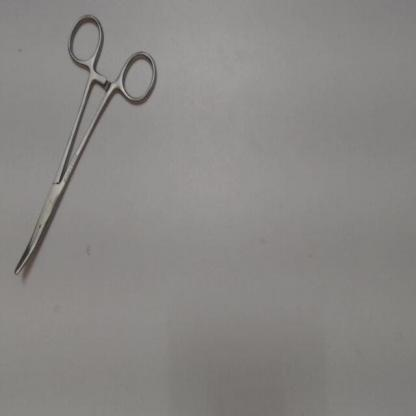Crile Artery Forceps: (7, 8, 162, 285)
